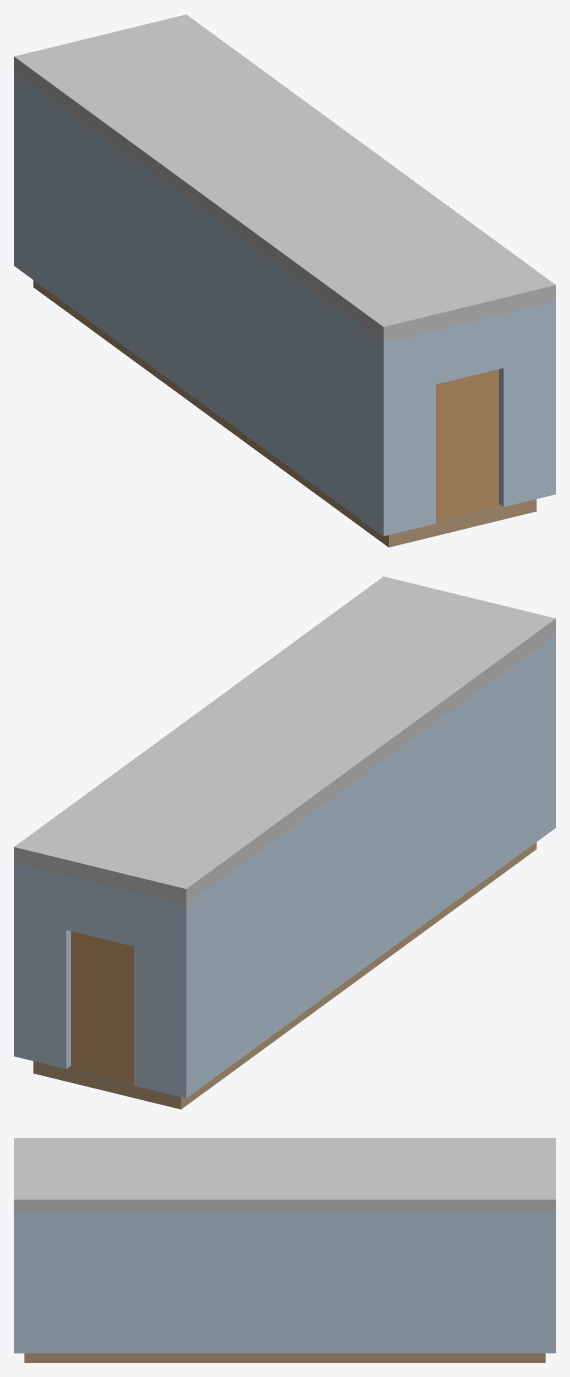
File: sky_hall_02.glb
The picture shows the model from 3 angles, top to bottom: view 1: azimuth 30°, elevation 25°; view 2: azimuth 150°, elevation 25°; view 3: azimuth 270°, elevation 25°; orthographic projection. The views are drawn at different scales.
Parts seen in each view (by area): view 1: Sky_Wall_W, Sky_Ceiling, DoorLeaf_entry, Sky_End_1, Sky_End_0, Sky_Floor, Sky_End_2, Sky_Wall_E; view 2: Sky_Wall_W, Sky_Ceiling, DoorLeaf_exit, Sky_End_4, Sky_End_3, Sky_Floor, Sky_End_5, Sky_Wall_E; view 3: Sky_Wall_E, Sky_Ceiling, Sky_Floor.
Boxes of the visible parts, left/top/right/bottom form: Sky_Wall_W: left=14, top=73, right=395, bottom=536; Sky_Ceiling: left=14, top=14, right=555, bottom=342; DoorLeaf_entry: left=436, top=369, right=498, bottom=520; Sky_End_1: left=499, top=304, right=543, bottom=506; Sky_End_0: left=396, top=330, right=435, bottom=533; Sky_Floor: left=33, top=280, right=536, bottom=547; Sky_End_2: left=436, top=314, right=503, bottom=384; Sky_Wall_E: left=543, top=301, right=555, bottom=497; Sky_Wall_W: left=174, top=635, right=555, bottom=1098; Sky_Ceiling: left=14, top=576, right=555, bottom=904; DoorLeaf_exit: left=71, top=931, right=133, bottom=1082; Sky_End_4: left=26, top=866, right=70, bottom=1068; Sky_End_3: left=134, top=892, right=173, bottom=1095; Sky_Floor: left=33, top=842, right=536, bottom=1109; Sky_End_5: left=66, top=876, right=133, bottom=946; Sky_Wall_E: left=14, top=863, right=26, bottom=1059; Sky_Wall_E: left=14, top=1211, right=555, bottom=1353; Sky_Ceiling: left=14, top=1138, right=555, bottom=1211; Sky_Floor: left=24, top=1353, right=545, bottom=1362.
Size of the model in its own units: 2.8 by 3.55 by 10.4.
